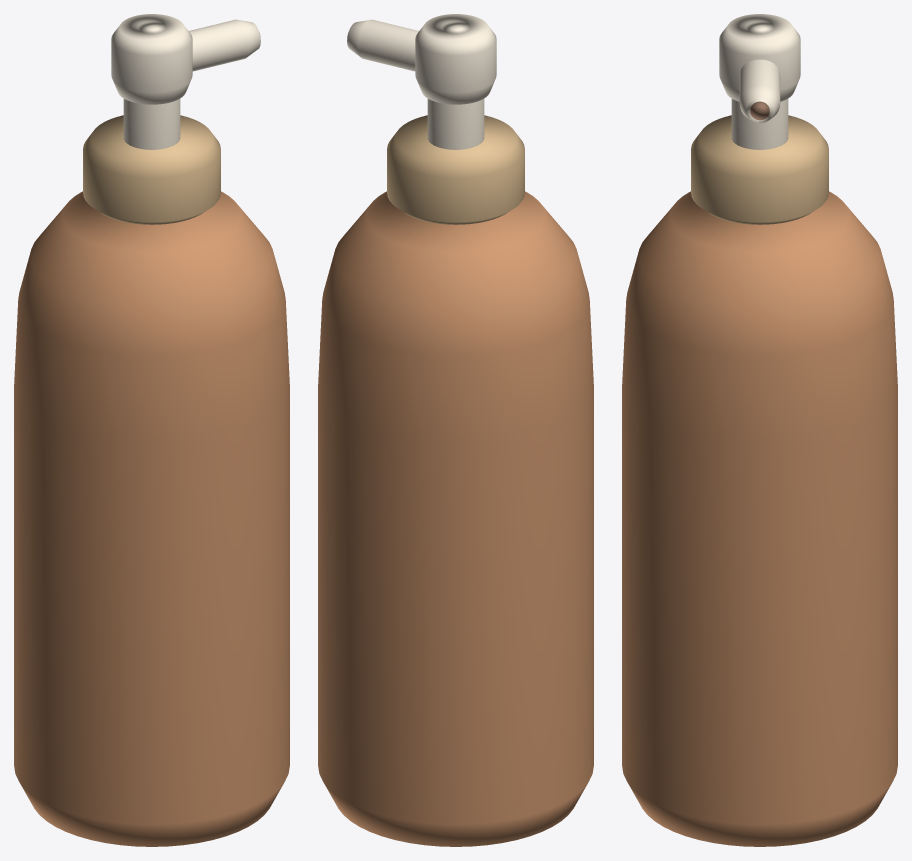
File: bottle.glb
3 views of the same model, side by side, from view 1: azimuth 30°, elevation 25°; view 2: azimuth 150°, elevation 25°; view 3: azimuth 270°, elevation 25° (orthographic).
Visible parts, largest first — view 1: Cosmetic Pump Bottle; view 2: Cosmetic Pump Bottle; view 3: Cosmetic Pump Bottle.
Part boxes in pixels (box(x1,y1,x2,y2)): Cosmetic Pump Bottle: box(14, 14, 289, 846); Cosmetic Pump Bottle: box(318, 14, 593, 846); Cosmetic Pump Bottle: box(622, 14, 897, 846).
Bounding box in the file's own units: 0.68 × 2.11 × 0.68.
